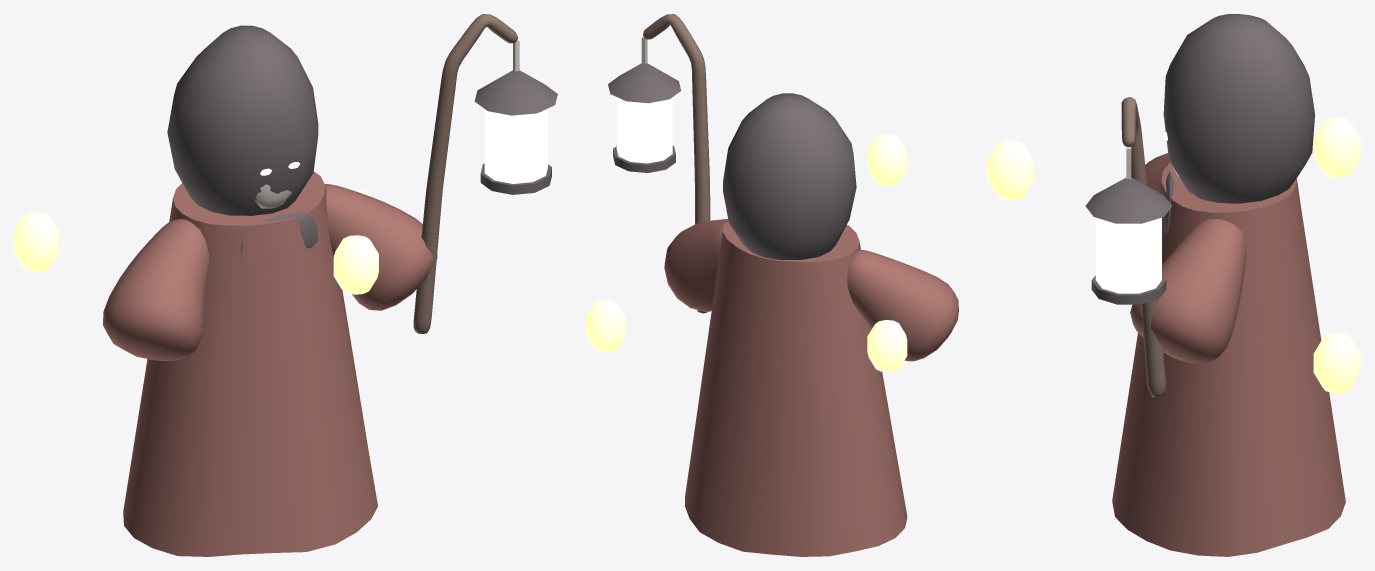
Rendered from EN_Ember_MagmaShaman_I.fbx.
The picture shows the model from 3 angles, left to right: view 1: azimuth 30°, elevation 25°; view 2: azimuth 150°, elevation 25°; view 3: azimuth 270°, elevation 25°; orthographic projection. The views are drawn at different scales.
Parts seen in each view (by area): view 1: EN_Ember_MagmaShaman_I; view 2: EN_Ember_MagmaShaman_I; view 3: EN_Ember_MagmaShaman_I.
Part boxes in pixels (x1,y1,x2,y2): EN_Ember_MagmaShaman_I: (14, 14, 557, 556); EN_Ember_MagmaShaman_I: (586, 14, 958, 556); EN_Ember_MagmaShaman_I: (987, 14, 1360, 556).
Bounding box in the file's own units: 2.46 × 2.65 × 1.8.
